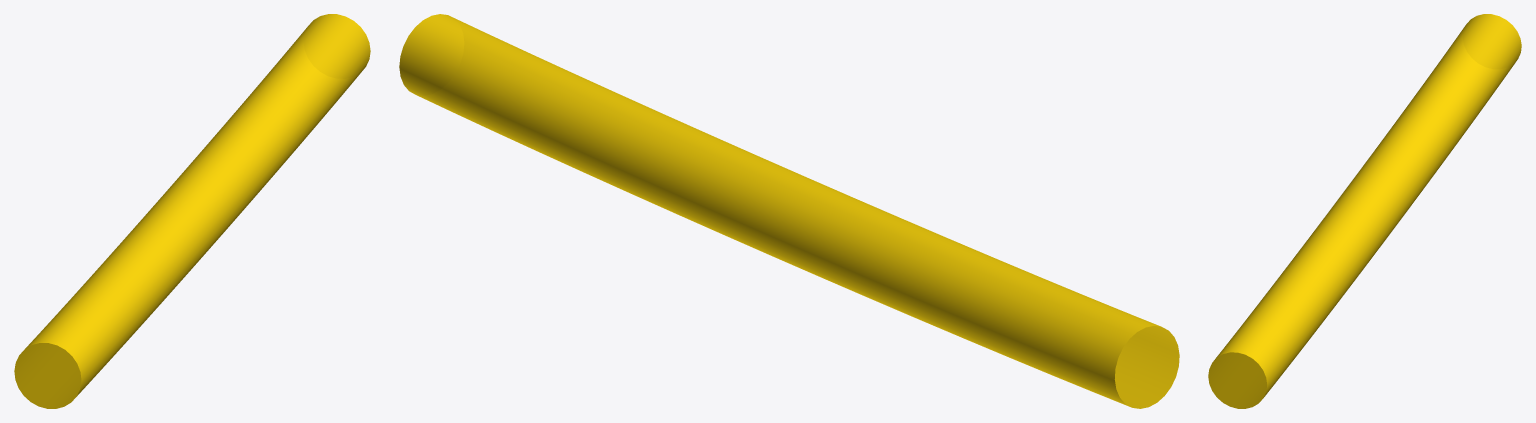
The model's file is Event_420094457_track_32.fbx.
3 renders of one model, left to right at view 1: azimuth 90°, elevation 25°; view 2: azimuth 150°, elevation 25°; view 3: azimuth 270°, elevation 25°, orthographic. The views are drawn at different scales.
Parts seen in each view (by area): view 1: Model; view 2: Model; view 3: Model.
Boxes of the visible parts, x1=… form: Model: x1=14, y1=14, x2=370, y2=408; Model: x1=399, y1=14, x2=1179, y2=408; Model: x1=1208, y1=14, x2=1521, y2=408.
Size of the model in its own units: 0.4901 by 0.0573 by 0.201.
